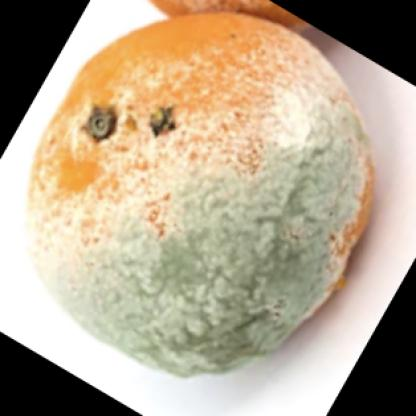rotten: (28, 16, 374, 382)
